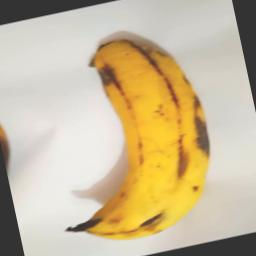Banana Unripe: (36, 24, 227, 250)
